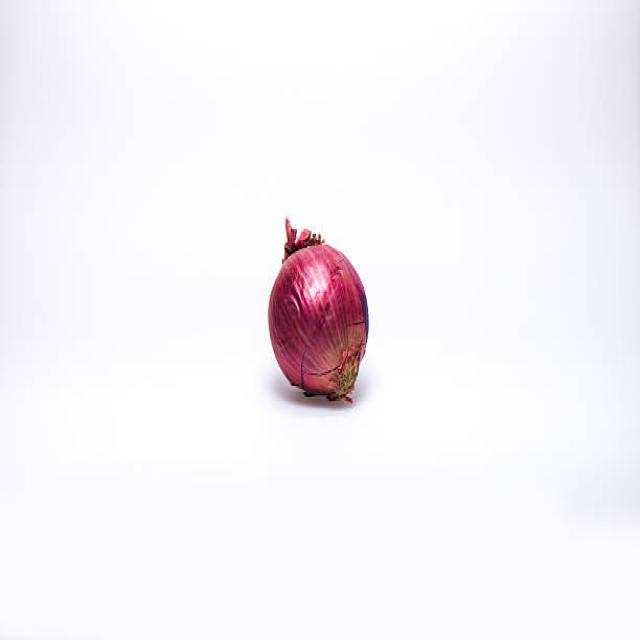onion: (263, 233, 381, 409)
